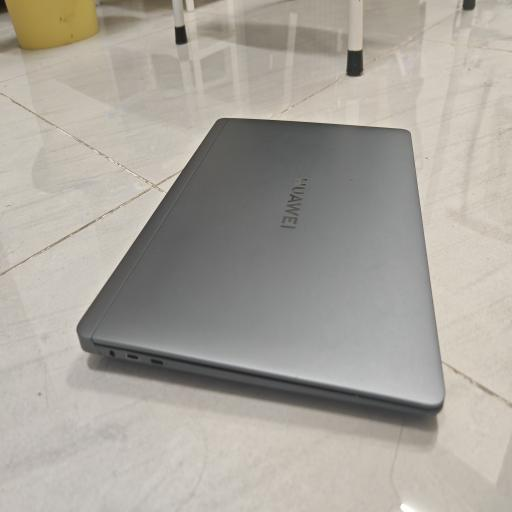laptop: (78, 118, 444, 412)
